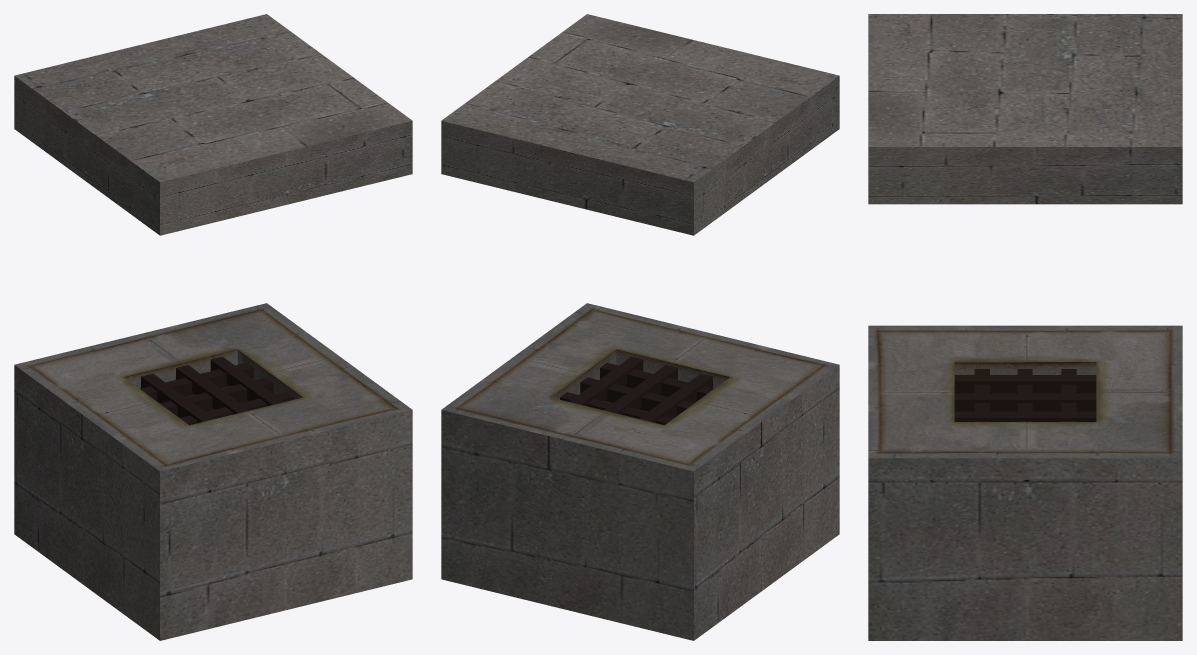
The model's file is StoneBlockFloorWithGutter.glb.
3 views of the same model, side by side, from view 1: azimuth 30°, elevation 25°; view 2: azimuth 150°, elevation 25°; view 3: azimuth 270°, elevation 25° (orthographic). The views are drawn at different scales.
Parts seen in each view (by area): view 1: SolidFloor; view 2: SolidFloor; view 3: SolidFloor.
Boxes of the visible parts, bbox=[...] form: SolidFloor: bbox=[14, 14, 412, 640]; SolidFloor: bbox=[441, 14, 839, 640]; SolidFloor: bbox=[868, 14, 1182, 640].
Bounding box in the file's own units: 2 × 3.47 × 2.
Materials: 2 (1 with a texture image).
